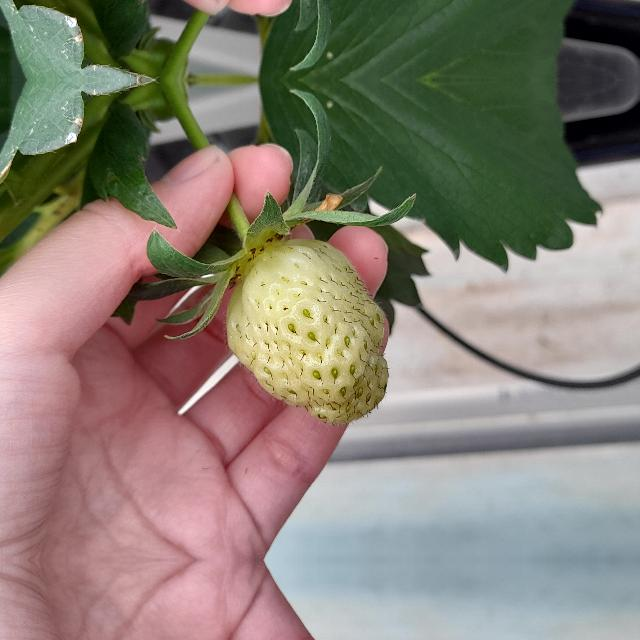Health_25: (225, 238, 389, 426)
